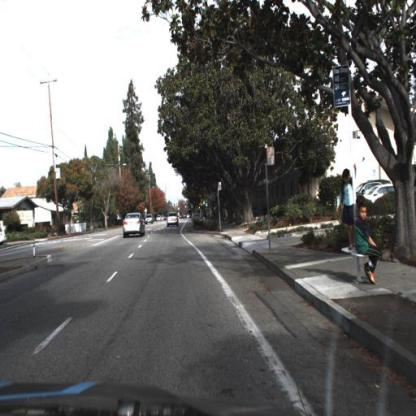car: (125, 211, 148, 238), (167, 211, 181, 228)
pedestrian: (355, 201, 381, 286), (337, 166, 355, 252)
